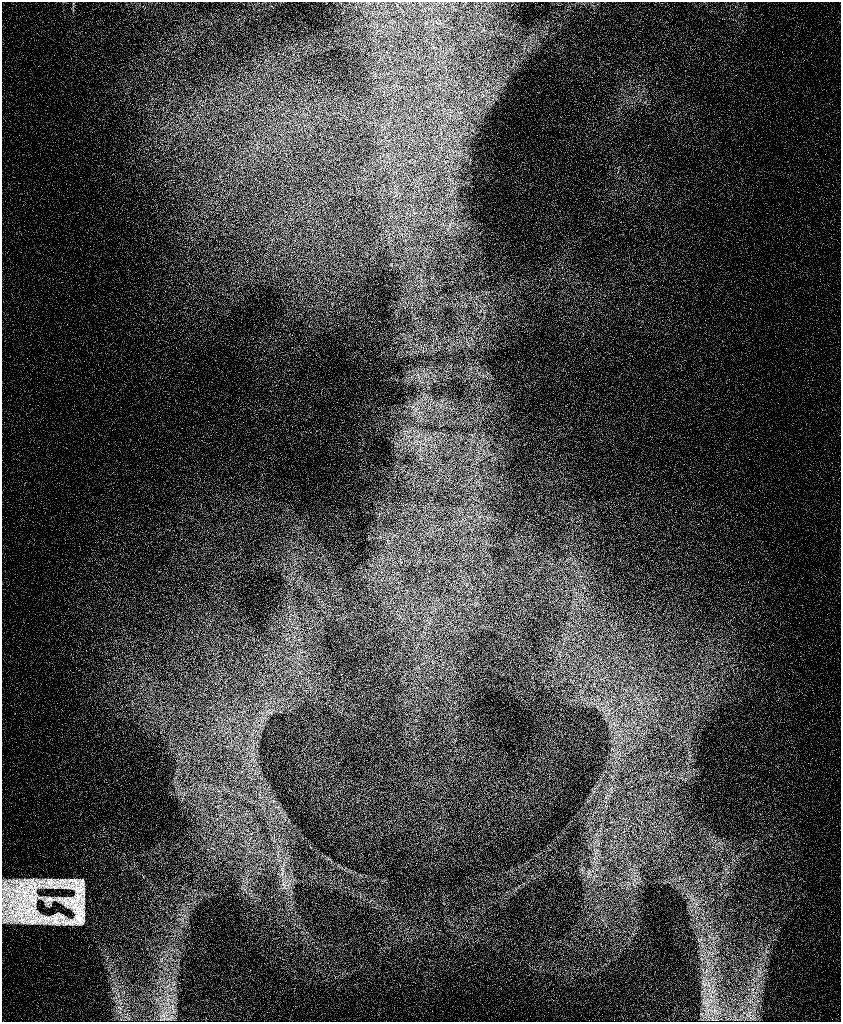lumbar scoliosis: (333, 146, 505, 635)
